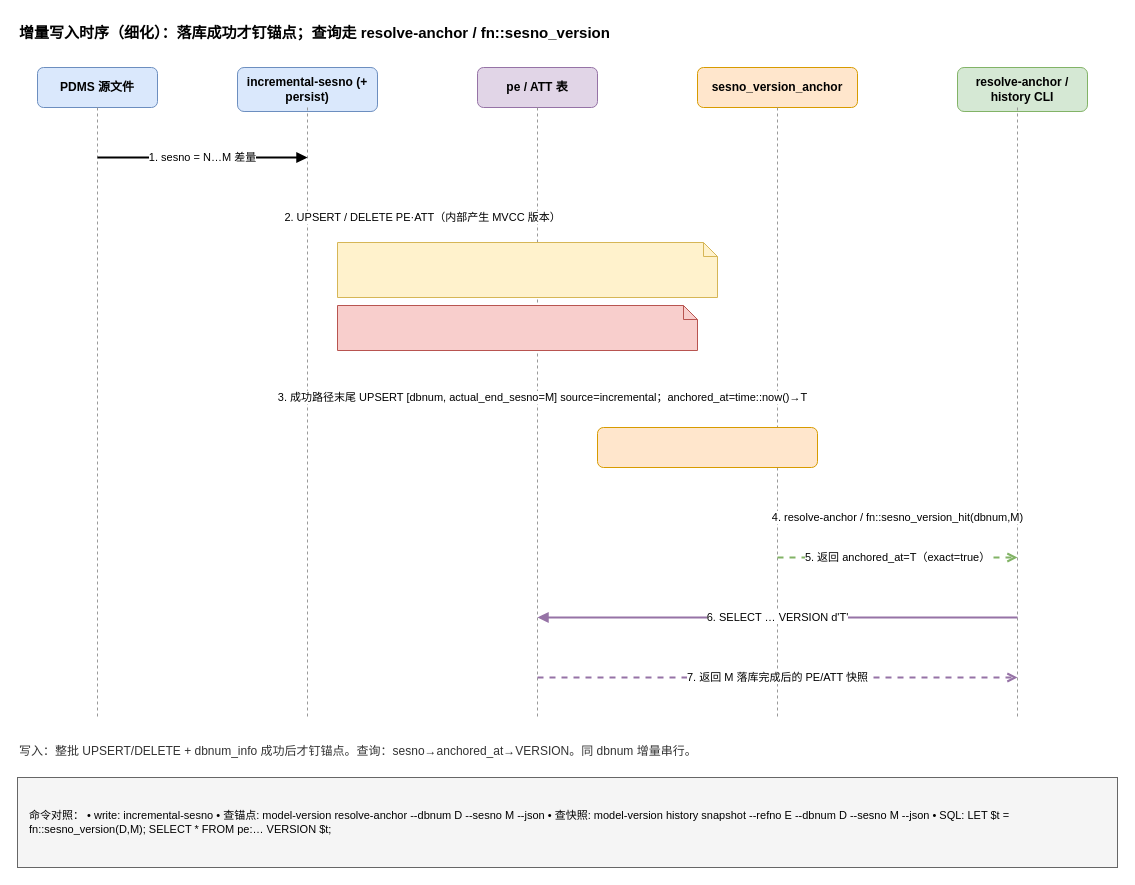
Image size: 1135x885. Some labels were removed from this diagram. The shapes that lost their labels are listed below. From the top down, each one's centre as x and y in pixels, then its label:
At (527,270): "⚠ 半途失败：PE/ATT 可能已有中间 MVCC，但无锚点 → 业务不可见；重跑覆盖后再钉".
At (517,327): "⛔ 空批（actual_start/end=0）或 ? 失败：提前 return，不写锚点".
At (707,447): "钉子钉上：sesno M ↔ 时刻 T".
